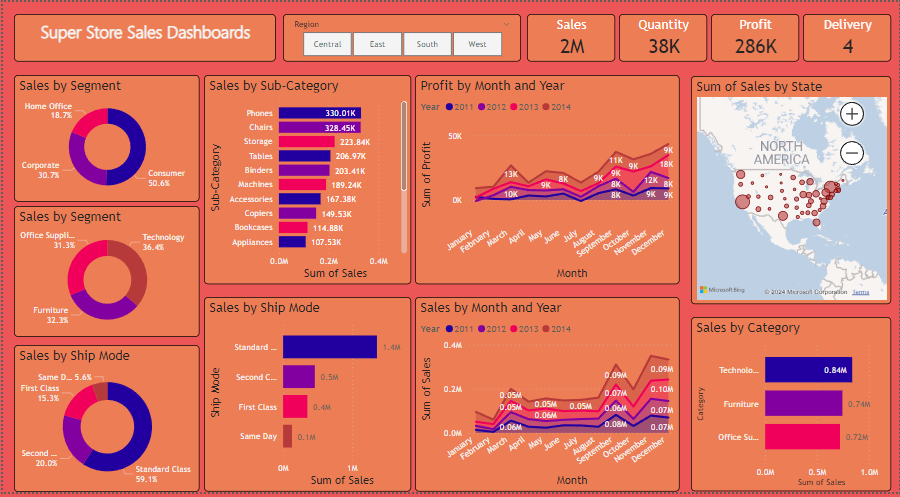

This screenshot's page, from the dashboard's own definition file:
{"tool":"powerbi","page":{"name":"Dashboard","canvas":[1280,700],"ordinal":1},"visuals":[{"type":"clusteredBarChart","title":"Sales by Category","fields":{"Category":["Superstore.Category"],"Y":["Sum(Superstore.Sales)"]},"box":[982.7,450.3,286,249.2],"z":0},{"type":"clusteredBarChart","title":"Sales by Sub-Category","fields":{"Category":["Superstore.Sub-Category"],"Y":["Sum(Superstore.Sales)"]},"box":[287.4,104.8,295.9,298.8],"z":1000},{"type":"clusteredBarChart","title":"Sales by Ship Mode","fields":{"Category":["Superstore.Ship Mode"],"Y":["Sum(Superstore.Sales)"]},"box":[287.4,421.9,295.9,277.5],"z":2000},{"type":"stackedAreaChart","title":"Sales by Month and Year","fields":{"Category":["Superstore.Order Date.Variation.Date Hierarchy.Month"],"Y":["Sum(Superstore.Sales)"],"Series":["Superstore.Order Date.Variation.Date Hierarchy.Year"]},"box":[589,421.9,378.1,277.5],"z":3000},{"type":"stackedAreaChart","title":"Profit by Month and Year","fields":{"Category":["Superstore.Order Date.Variation.Date Hierarchy.Month"],"Series":["Superstore.Order Date.Variation.Date Hierarchy.Year"],"Y":["Sum(Superstore.Profit)"]},"box":[589,104.8,378.1,298.8],"z":4000},{"type":"map","fields":{"Category":["Superstore.State"],"Size":["Sum(Superstore.Sales)"]},"box":[982.7,105.1,286,325.7],"z":5000},{"type":"donutChart","title":"Sales by Segment","fields":{"Y":["Sum(Superstore.Sales)"],"Category":["Superstore.Segment"]},"box":[15.6,104.8,264.8,181.2],"z":6000},{"type":"donutChart","title":"Sales by Ship Mode","fields":{"Y":["Sum(Superstore.Sales)"],"Category":["Superstore.Ship Mode"]},"box":[15.6,489.9,264.8,209.6],"z":7000},{"type":"slicer","fields":{"Values":["Superstore.Region"]},"box":[399.3,17,339.8,68],"z":8000},{"type":"textbox","box":[15.6,17,373.8,68],"z":9000},{"type":"card","title":"Sales","fields":{"Values":["Sum(Superstore.Sales)"]},"box":[749,17,126,68],"z":10000},{"type":"card","title":"Quantity","fields":{"Values":["Sum(Superstore.Quantity)"]},"box":[880.2,17,126,68],"z":11000},{"type":"card","title":"Delivery","fields":{"Values":["Avg(Superstore.AvgDelivery)"]},"box":[1142.7,17,126,68],"z":12000},{"type":"card","title":"Profit","fields":{"Values":["Sum(Superstore.Profit)"]},"box":[1011.4,17,126,68],"z":13000},{"type":"donutChart","title":"Sales by Segment","fields":{"Y":["Sum(Superstore.Sales)"],"Category":["Superstore.Category"]},"box":[15.6,291.7,264.8,186.9],"z":14000}]}

Visuals, with their boxes in screenshot pixels (x1, y1, x2, y2), scaled from the page's 1280x700 canvas onto the 900x497 screenshot:
"Sales by Category" clusteredBarChart: box(691, 320, 892, 496)
"Sales by Sub-Category" clusteredBarChart: box(202, 74, 410, 287)
"Sales by Ship Mode" clusteredBarChart: box(202, 300, 410, 496)
"Sales by Month and Year" stackedAreaChart: box(414, 300, 680, 496)
"Profit by Month and Year" stackedAreaChart: box(414, 74, 680, 287)
map - Superstore.State x Sum(Superstore.Sales): box(691, 75, 892, 306)
"Sales by Segment" donutChart: box(11, 74, 197, 203)
"Sales by Ship Mode" donutChart: box(11, 348, 197, 496)
slicer - Superstore.Region: box(281, 12, 520, 60)
textbox: box(11, 12, 274, 60)
"Sales" card: box(527, 12, 615, 60)
"Quantity" card: box(619, 12, 707, 60)
"Delivery" card: box(803, 12, 892, 60)
"Profit" card: box(711, 12, 800, 60)
"Sales by Segment" donutChart: box(11, 207, 197, 340)
